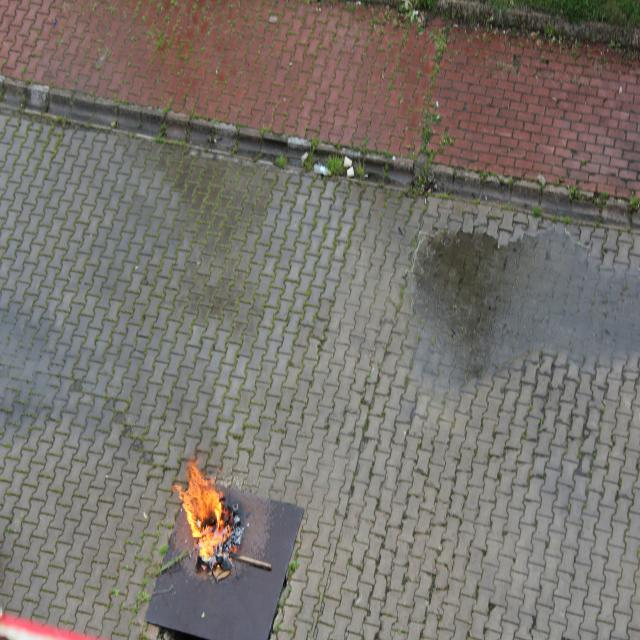fire: (177, 458, 246, 584)
